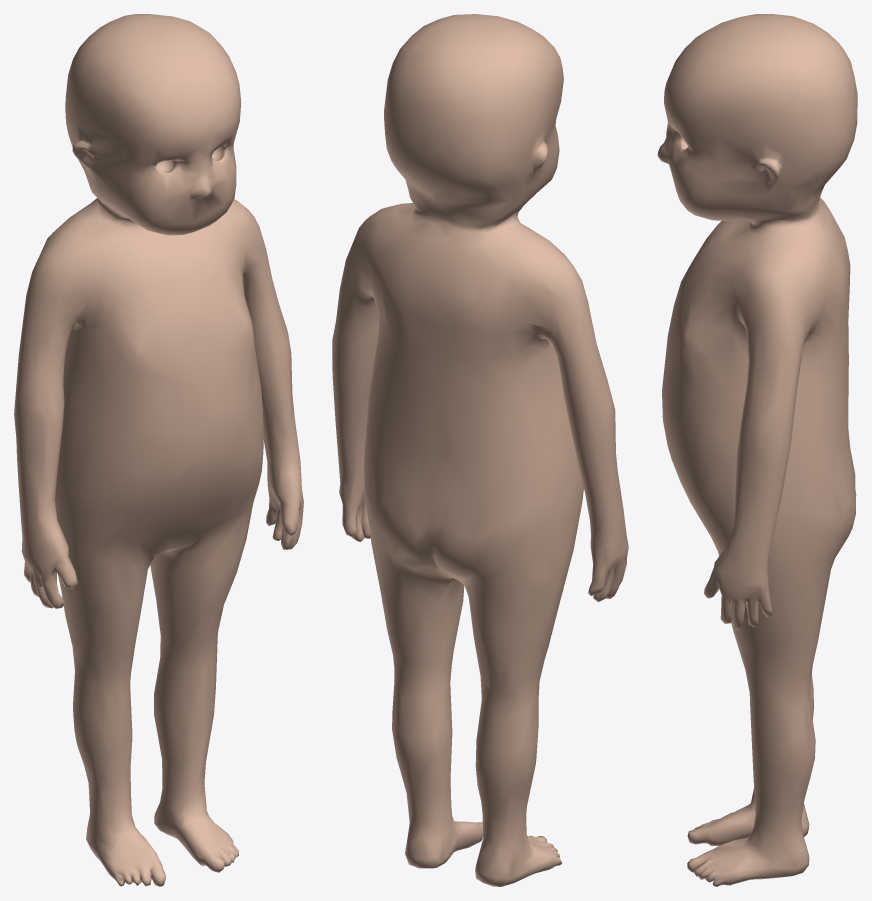
File: pediatric_infant_female.surface.LOD2.glb
3 views of the same model, side by side, from view 1: azimuth 30°, elevation 25°; view 2: azimuth 150°, elevation 25°; view 3: azimuth 270°, elevation 25° (orthographic). The views are drawn at different scales.
Parts seen in each view (by area): view 1: PEDIATRIC.INFANT.FEMALE.SURFACE.SKIN; view 2: PEDIATRIC.INFANT.FEMALE.SURFACE.SKIN; view 3: PEDIATRIC.INFANT.FEMALE.SURFACE.SKIN.
Boxes of the visible parts, <box> form: PEDIATRIC.INFANT.FEMALE.SURFACE.SKIN: <box>14,14,303,886</box>; PEDIATRIC.INFANT.FEMALE.SURFACE.SKIN: <box>332,14,628,886</box>; PEDIATRIC.INFANT.FEMALE.SURFACE.SKIN: <box>657,14,857,886</box>.
Bounding box in the file's own units: 0.2613 × 0.7597 × 0.1657.
